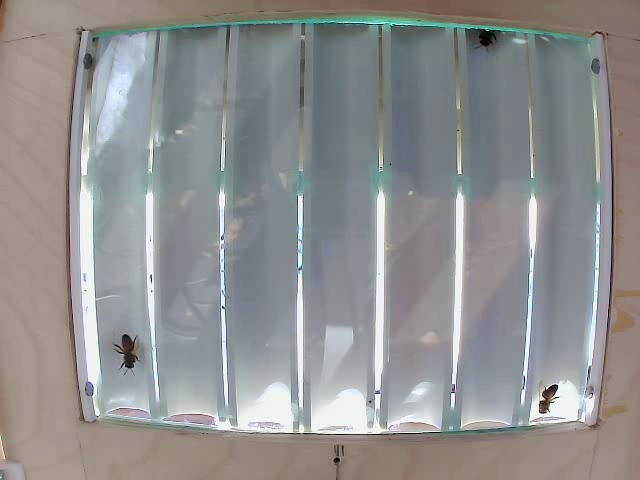bee: (109, 333, 154, 387), (476, 12, 507, 66)
